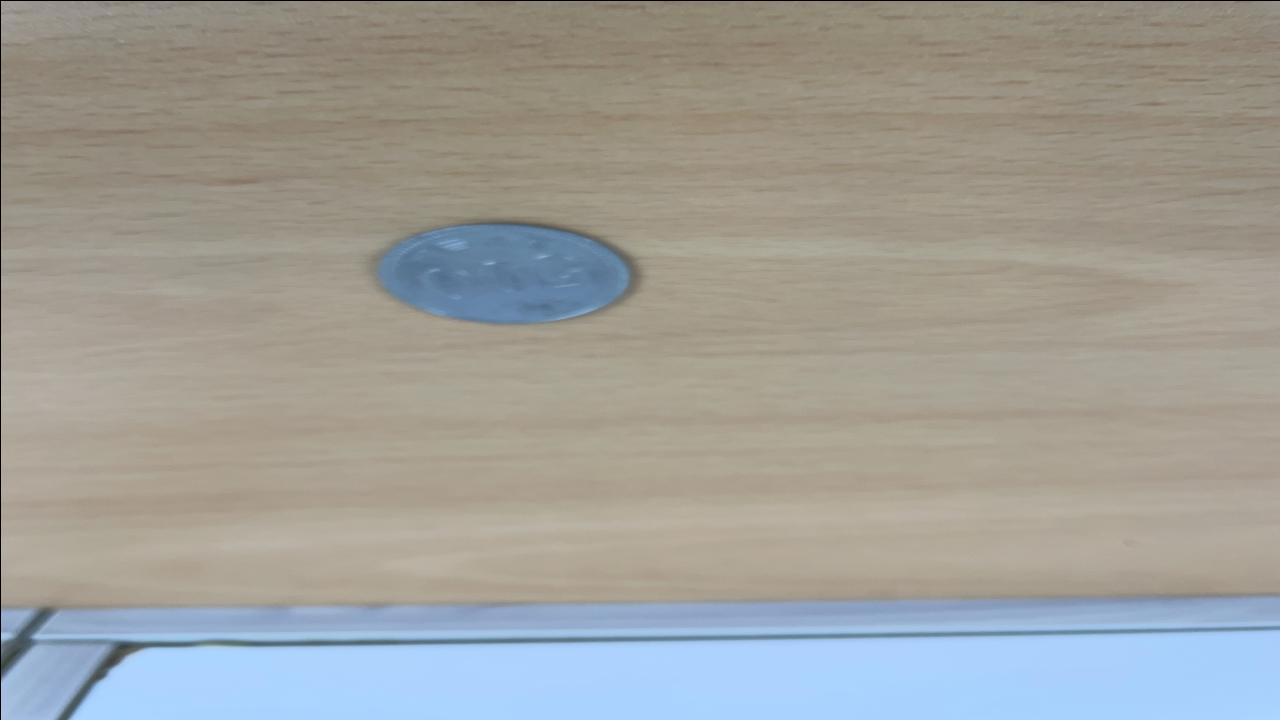coin: (370, 220, 638, 326)
